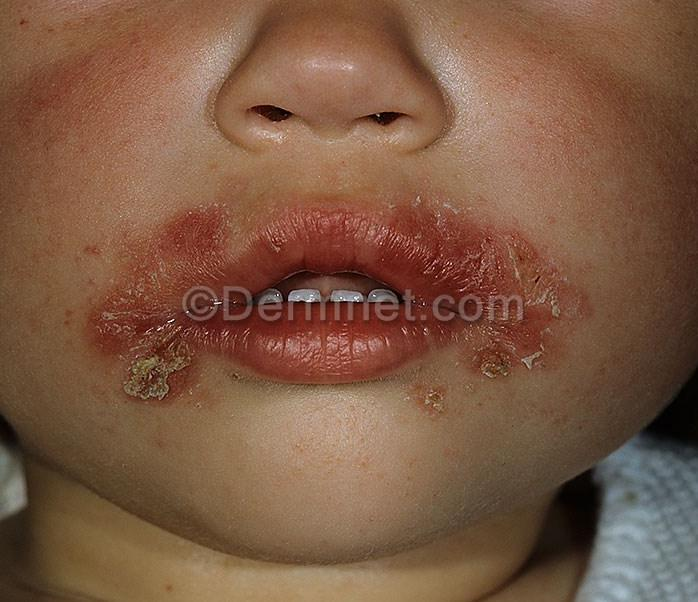eritema 3: (375, 192, 591, 378), (85, 191, 229, 413)
xerosis 1: (414, 186, 570, 371), (93, 248, 163, 329)
xerosis 2: (108, 325, 193, 404)
